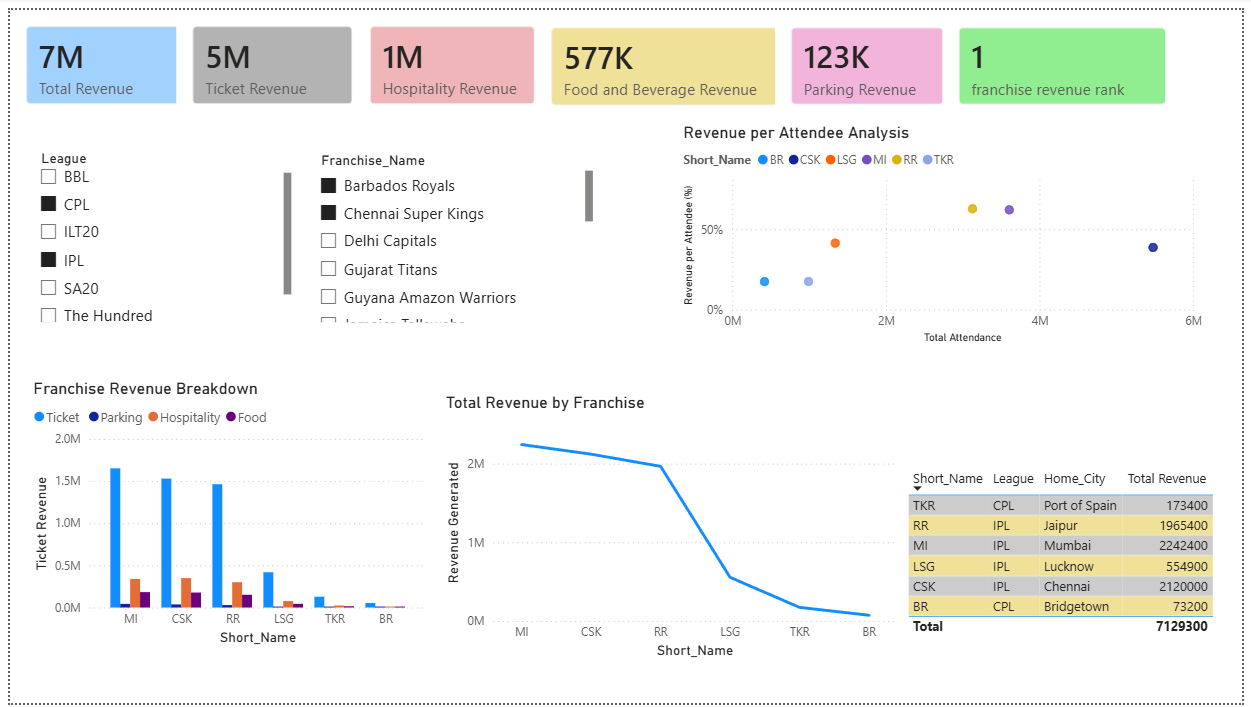

Layout of this report page (visuals, bound fields, positions):
{"tool":"powerbi","page":{"name":"Revenue","canvas":[1280,720],"ordinal":1},"visuals":[{"type":"cardVisual","fields":{"Data":["attendance_fact (1).Total Revenue"]},"box":[0,0,195,115],"z":0},{"type":"slicer","fields":{"Values":["franchise_dimen.Franchise_Name"]},"box":[310,142.5,300,186.2],"z":1000},{"type":"slicer","fields":{"Values":["league_dimen.League"]},"box":[20,140,277.5,188.8],"z":2000},{"type":"cardVisual","fields":{"Data":["attendance_fact (1).Ticket Revenue"]},"box":[172.5,0,200,115],"z":3000},{"type":"cardVisual","fields":{"Data":["attendance_fact (1).Hospitality Revenue"]},"box":[357,0,205,115],"z":4000},{"type":"cardVisual","fields":{"Data":["attendance_fact (1).Food and Beverage Revenue"]},"box":[545,1,271,115],"z":5000},{"type":"cardVisual","fields":{"Data":["attendance_fact (1).Parking Revenue"]},"box":[794.3,1.4,192.9,114.3],"z":6000},{"type":"cardVisual","fields":{"Data":["attendance_fact (1).franchise revenue rank"]},"box":[969.1,1.5,250,114.7],"z":7000},{"type":"clusteredColumnChart","title":"Franchise Revenue Breakdown","fields":{"Y":["Sum(revenue_fact.Ticket_Revenue)","Sum(revenue_fact.Parking_Revenue)","Sum(revenue_fact.Hospitality_Revenue)","Sum(revenue_fact.Food_Beverage_Revenue)"],"Category":["franchise_dimen.Short_Name"]},"box":[20,382.9,418.6,281.4],"z":8000},{"type":"lineChart","title":"Total Revenue by Franchise","fields":{"Y":["Sum(revenue_fact.Total_Revenue)"],"Category":["franchise_dimen.Short_Name"]},"box":[448.6,397.1,478.6,281.4],"z":9000},{"type":"scatterChart","title":"Revenue per Attendee Analysis","fields":{"X":["attendance_fact.Total Attendance"],"Y":["attendance_fact.Revenue per attendee"],"Series":["franchise_dimen.Short_Name"]},"box":[694.3,117.1,548.6,234.3],"z":10000},{"type":"tableEx","fields":{"Values":["franchise_dimen.Short_Name","league_dimen.League","franchise_dimen.Home_City","attendance_fact.Total Revenue"]},"box":[927.1,470,352.9,194.3],"z":11000}]}

Visuals, with their boxes in screenshot pixels (x1, y1, x2, y2), scaled from the page's 1280x720 canvas onto the 1251x707 screenshot:
cardVisual - attendance_fact (1).Total Revenue: Rect(0, 0, 191, 113)
slicer - franchise_dimen.Franchise_Name: Rect(303, 140, 596, 323)
slicer - league_dimen.League: Rect(20, 137, 291, 323)
cardVisual - attendance_fact (1).Ticket Revenue: Rect(169, 0, 364, 113)
cardVisual - attendance_fact (1).Hospitality Revenue: Rect(349, 0, 549, 113)
cardVisual - attendance_fact (1).Food and Beverage Revenue: Rect(533, 1, 798, 114)
cardVisual - attendance_fact (1).Parking Revenue: Rect(776, 1, 965, 114)
cardVisual - attendance_fact (1).franchise revenue rank: Rect(947, 1, 1191, 114)
"Franchise Revenue Breakdown" clusteredColumnChart: Rect(20, 376, 429, 652)
"Total Revenue by Franchise" lineChart: Rect(438, 390, 906, 666)
"Revenue per Attendee Analysis" scatterChart: Rect(679, 115, 1215, 345)
tableEx - franchise_dimen.Short_Name x league_dimen.League: Rect(906, 462, 1250, 652)
